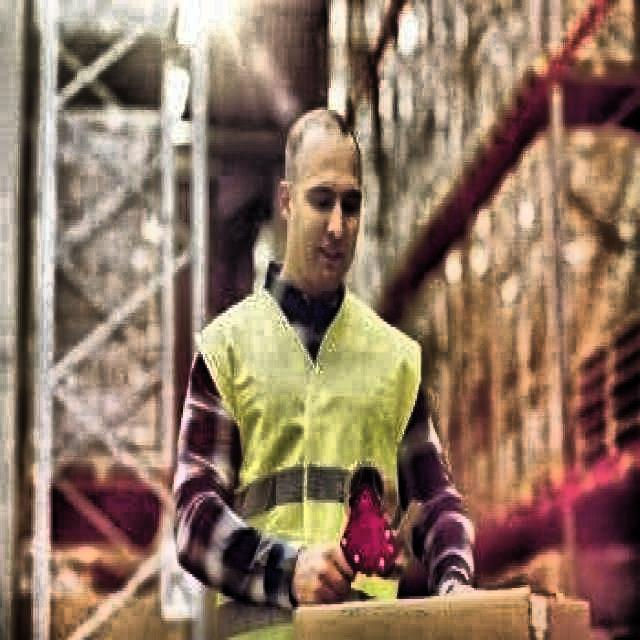safety_jacket: (204, 282, 402, 590)
